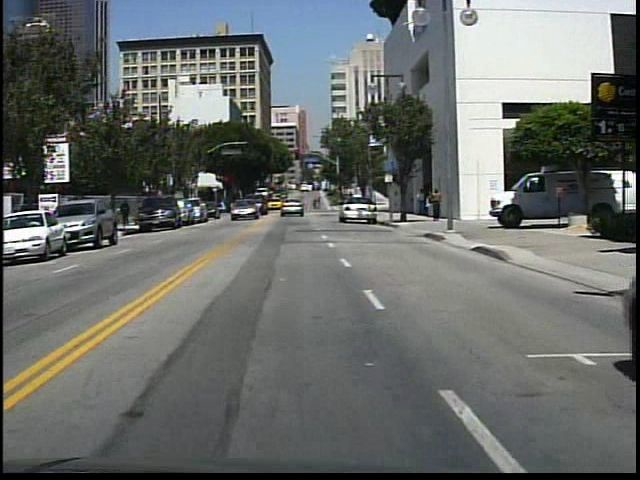person: (119, 198, 133, 228), (430, 188, 442, 220), (415, 185, 427, 217), (426, 189, 434, 219), (220, 198, 230, 217)
